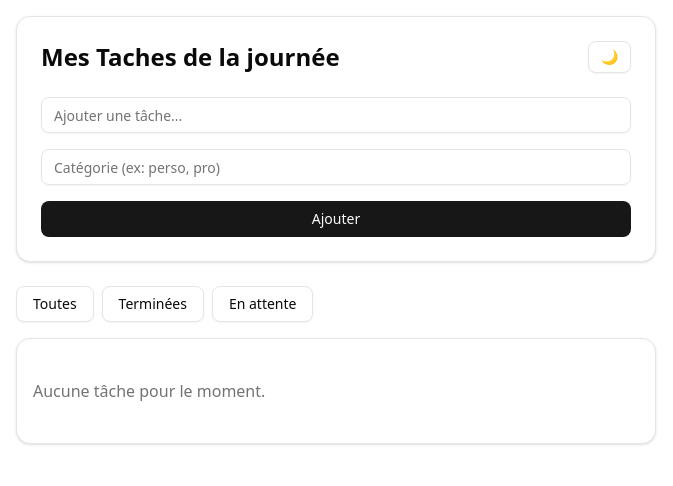
App Component › adds a new task when submitting the form
Note: Simuler l'entrée de texte
Step 1. Type "Nouvelle tâche" into the field with placeholder "Ajouter une tâche..." → (336, 115), box [41,97,631,133]
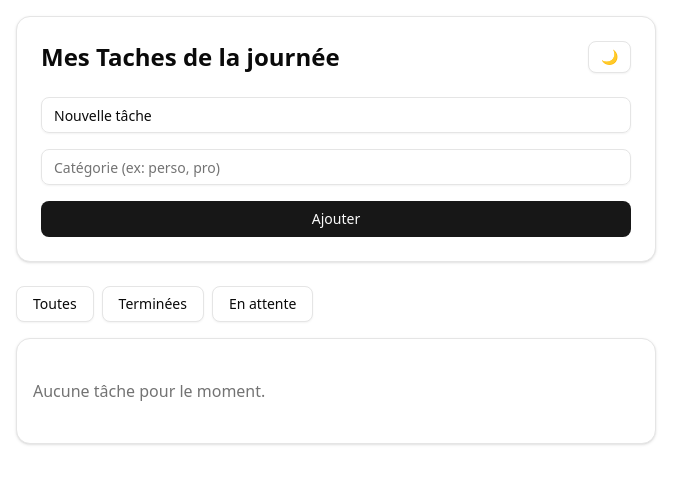
Step 2. Type "perso" into the field with placeholder "Catégorie (ex: perso, pro)" → (336, 167), box [41,149,631,185]
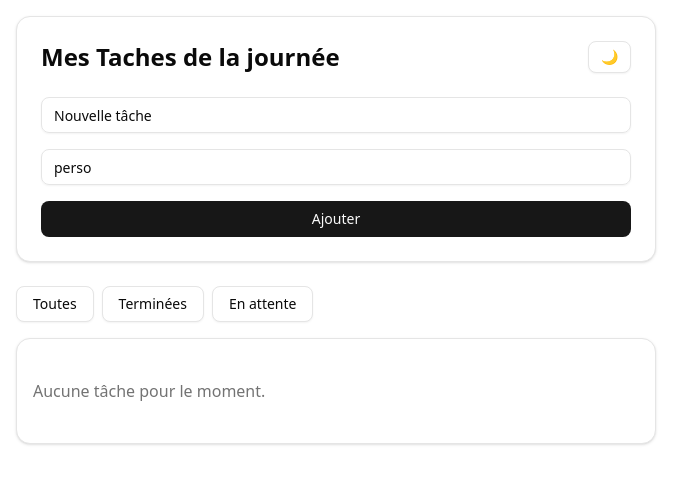
Note: Simuler la soumission du formulaire
Step 3. Submit the form with placeholder "Ajouter une tâche...", box [41,97,631,237]
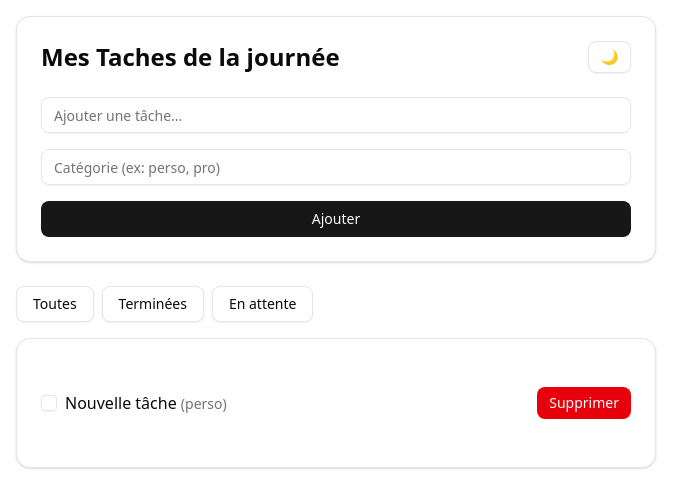
Expected: the text "Nouvelle tâche" is shown, [65,392,177,414]
Expected: the text "(perso)" is shown, [181,394,227,413]
Expected: the field with placeholder "Ajouter une tâche..." is empty, [41,97,631,133]
